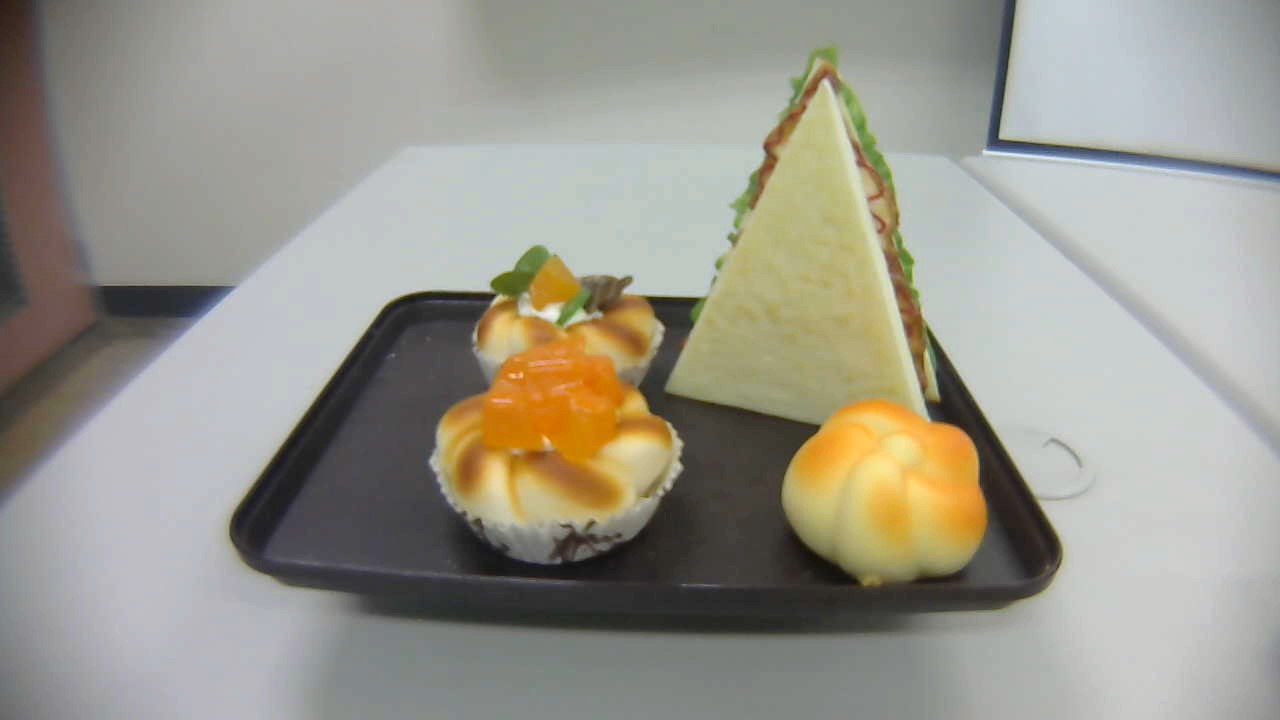fruit tart: (471, 242, 667, 393)
mango tart: (430, 333, 684, 568)
sandwich: (663, 48, 942, 436)
twist bread: (781, 398, 989, 589)
